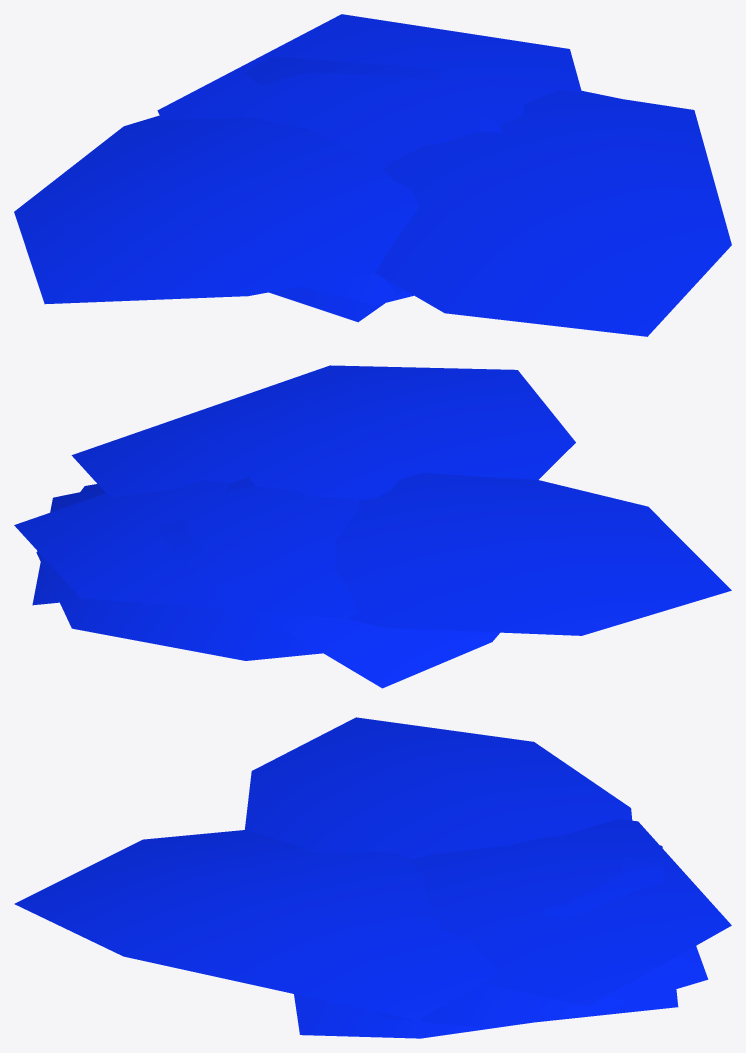
File: DeadLeaves3.fbx
3 renders of one model, top to bottom at view 1: azimuth 30°, elevation 25°; view 2: azimuth 150°, elevation 25°; view 3: azimuth 270°, elevation 25°, orthographic. The views are drawn at different scales.
Parts seen in each view (by area): view 1: DeadLeaves3; view 2: DeadLeaves3; view 3: DeadLeaves3.
Part boxes in pixels (box(x1,y1,x2,y2)): DeadLeaves3: box(14, 14, 731, 336); DeadLeaves3: box(14, 365, 731, 688); DeadLeaves3: box(14, 717, 731, 1038).
Size of the model in its own units: 47.78 by 4.99 by 47.23.
